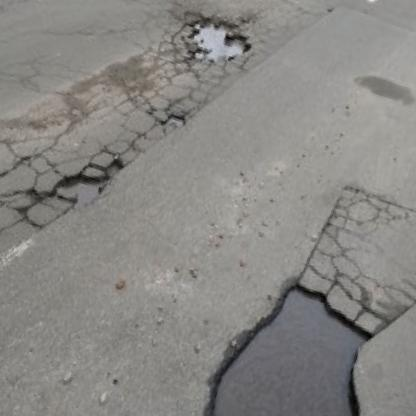pothole: (200, 267, 402, 416), (183, 13, 256, 75), (51, 159, 112, 214), (103, 154, 125, 179), (163, 111, 187, 130)
